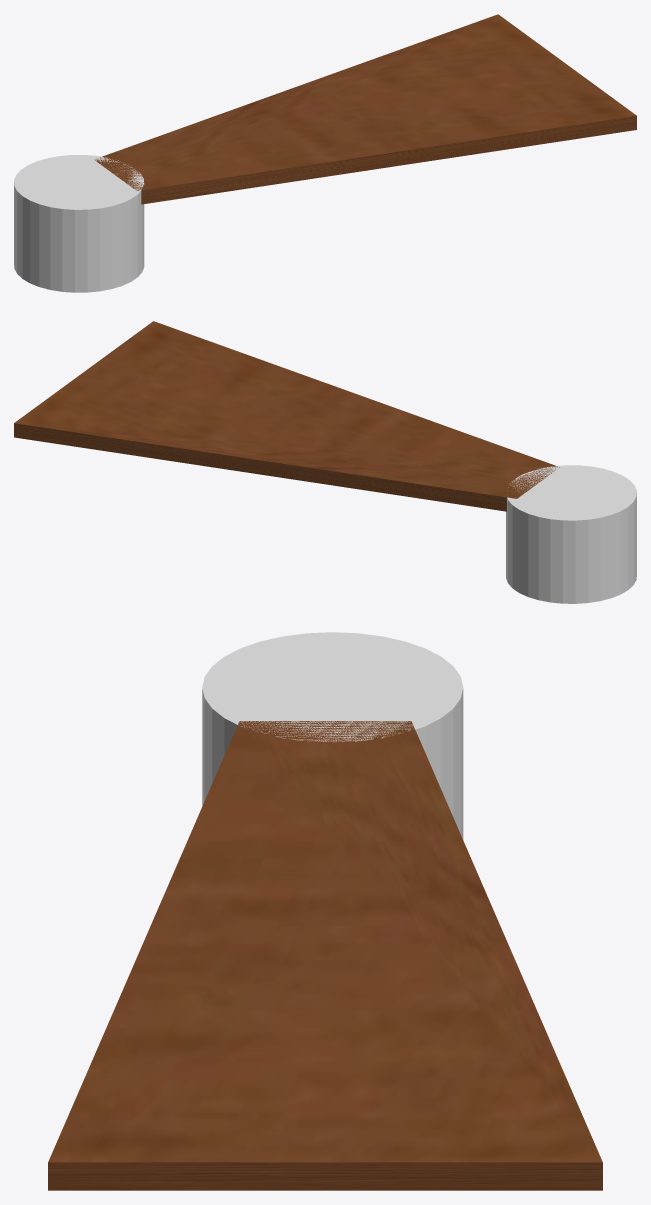
File: StepSpiral2.glb
3 renders of one model, top to bottom at view 1: azimuth 30°, elevation 25°; view 2: azimuth 150°, elevation 25°; view 3: azimuth 270°, elevation 25°, orthographic. The views are drawn at different scales.
Visible parts, largest first — view 1: Cube, Cylinder; view 2: Cube, Cylinder; view 3: Cube, Cylinder.
Boxes of the visible parts, box(x1,y1,x2,y2) form: Cube: box(94, 14, 636, 204); Cylinder: box(14, 155, 144, 292); Cube: box(14, 321, 559, 511); Cylinder: box(506, 465, 636, 603); Cube: box(48, 721, 602, 1190); Cylinder: box(202, 632, 463, 839).
Size of the model in its own units: 1.2 by 0.175 by 0.5312.
1 material, 1 textured.
